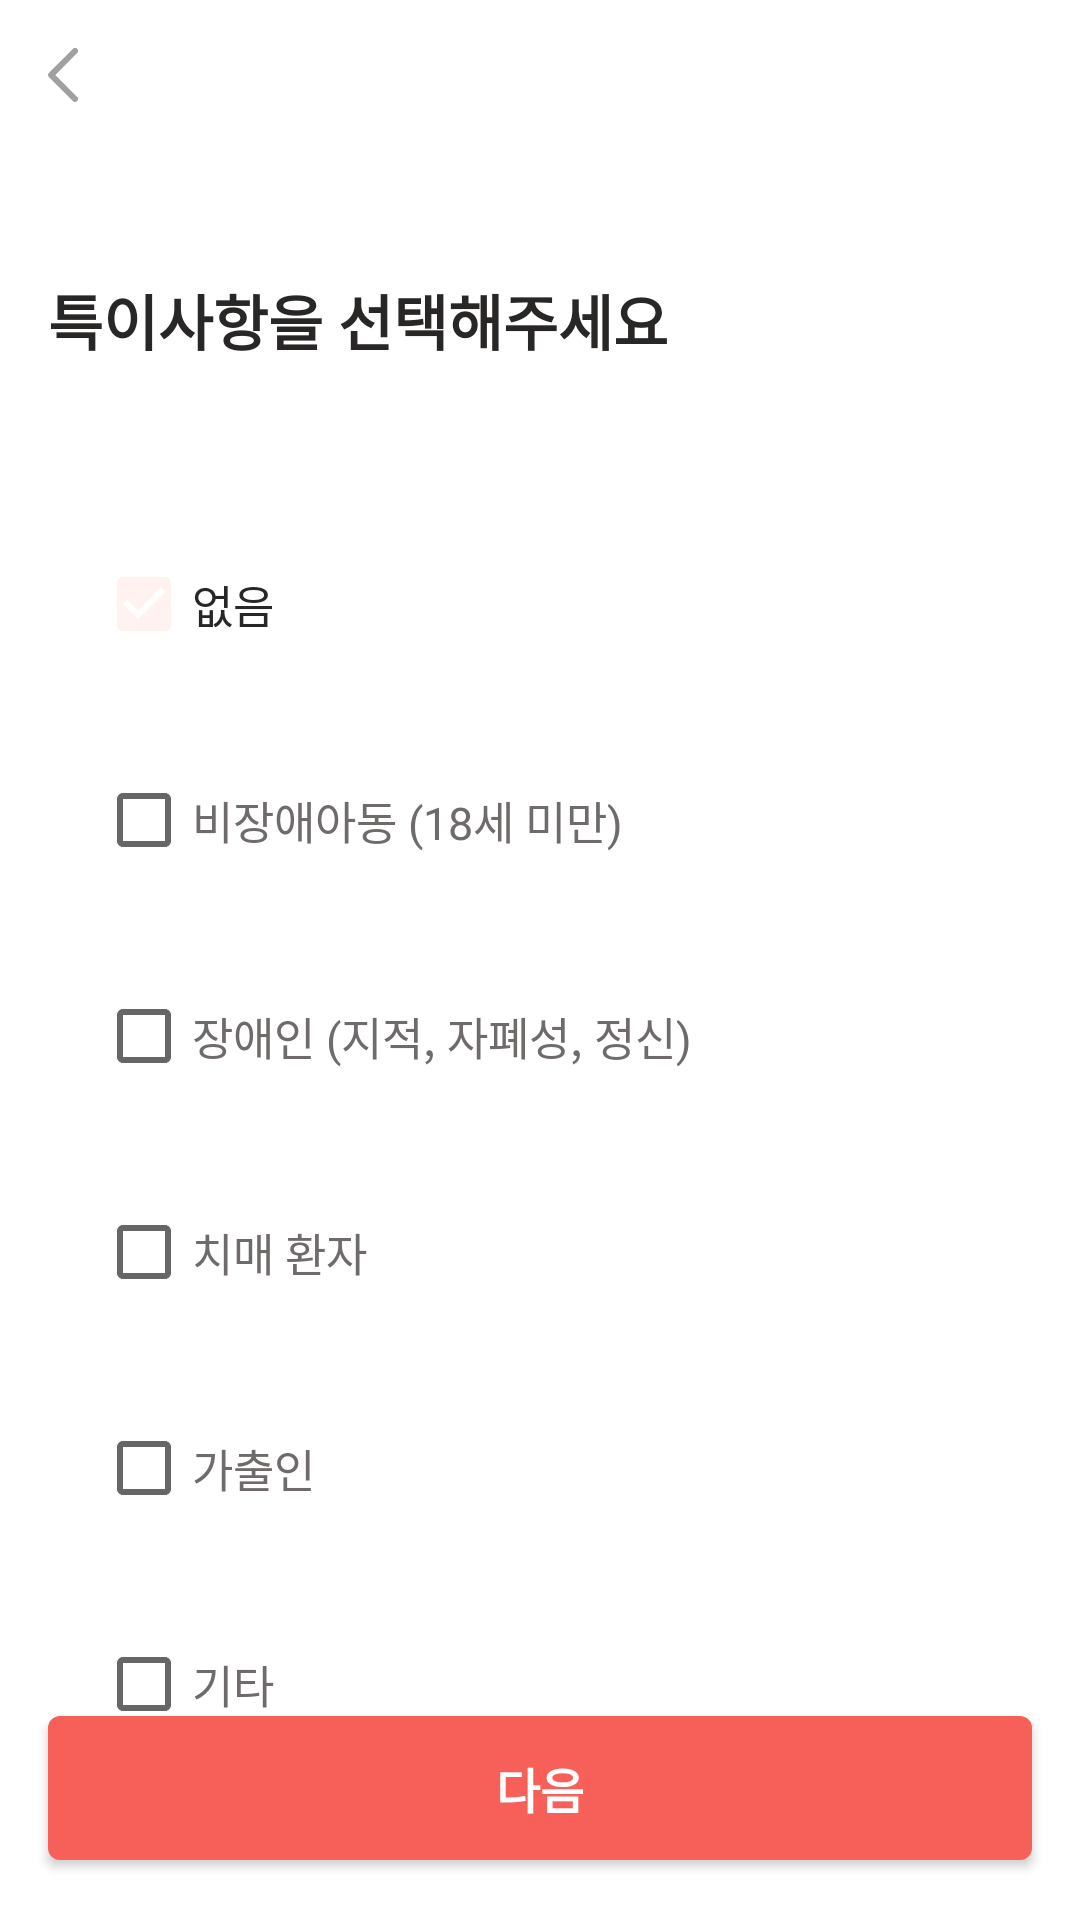

Where to tap for icons on this 1080x1920 app screen, as point (x, y):
back: point (63, 75)
